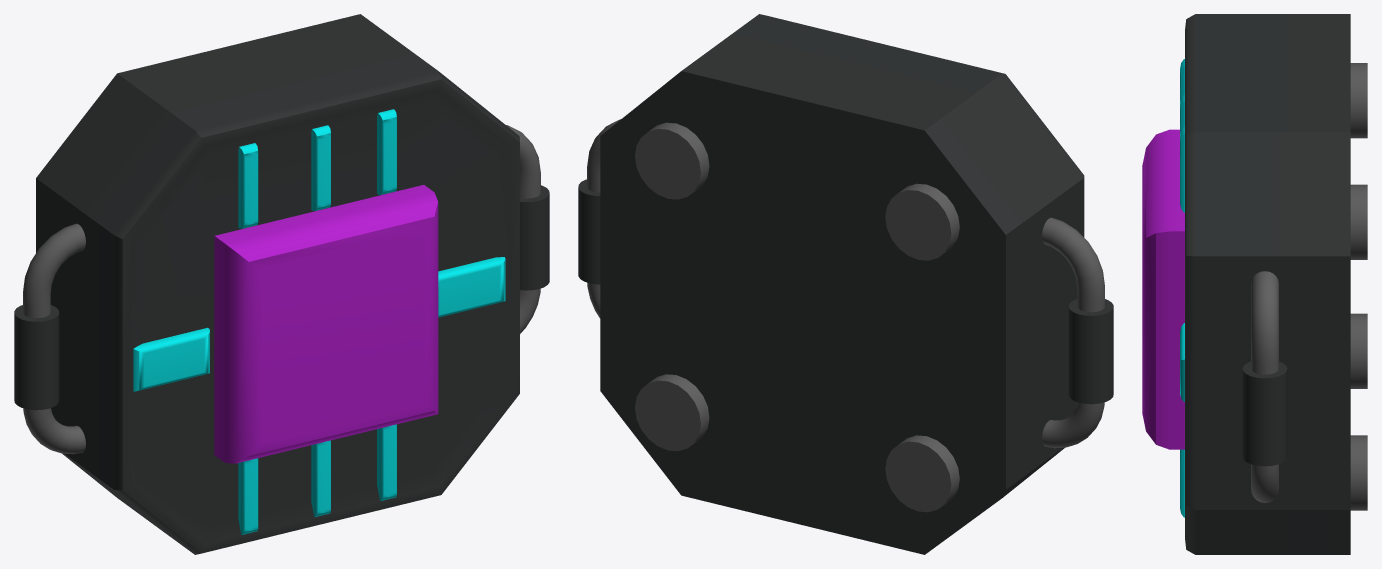
Rendered from weapon_hack_0_model.fbx.
The picture shows the model from 3 angles, left to right: view 1: azimuth 30°, elevation 25°; view 2: azimuth 150°, elevation 25°; view 3: azimuth 270°, elevation 25°; orthographic projection.
Parts seen in each view (by area): view 1: NeuroChip; view 2: NeuroChip; view 3: NeuroChip.
Part boxes in pixels (bbox=[...]): NeuroChip: bbox=[14, 14, 549, 554]; NeuroChip: bbox=[578, 14, 1113, 554]; NeuroChip: bbox=[1142, 14, 1367, 554].
Size of the model in its own units: 16.04 by 12.29 by 5.94.
